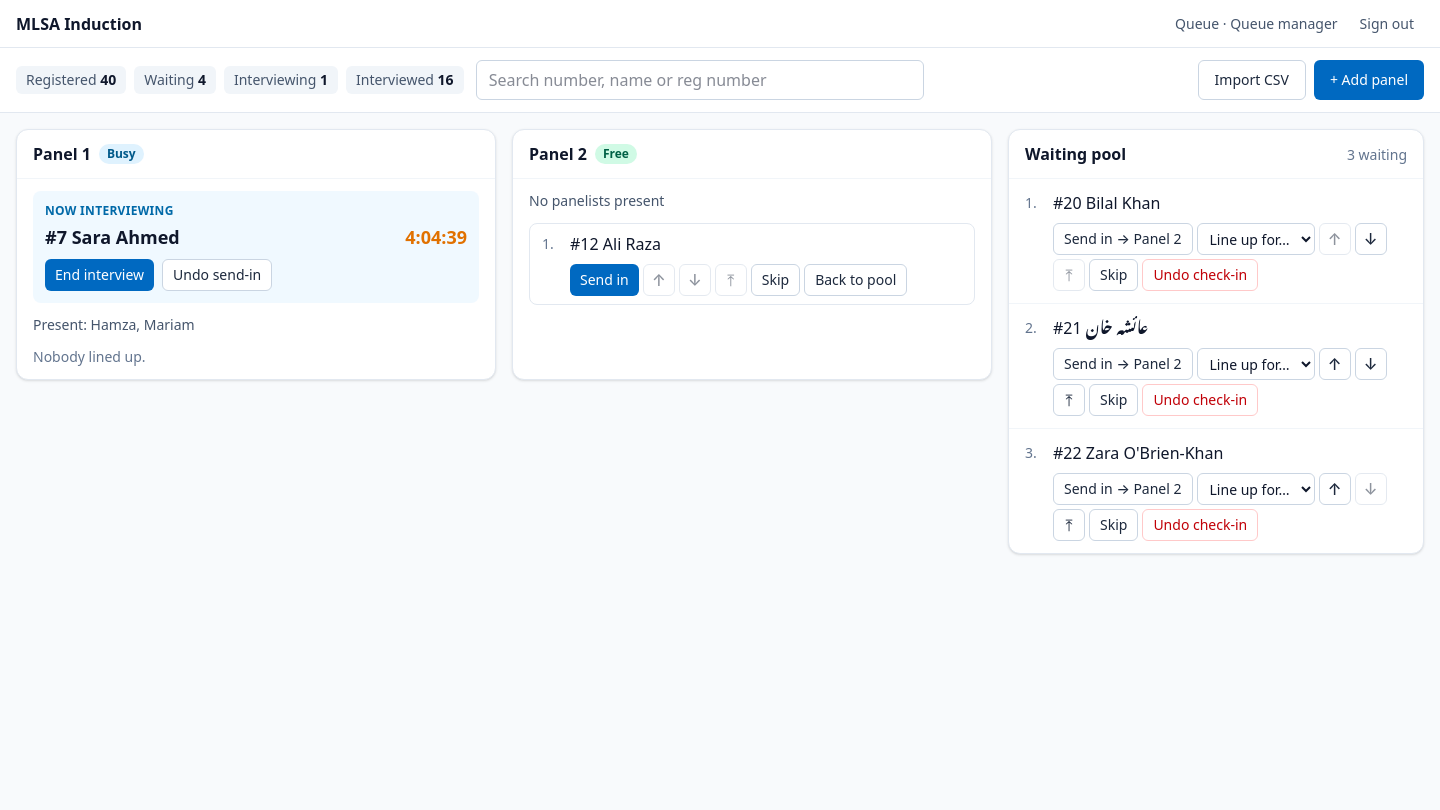
Test: QueuePage › shows the server's message when an action fails
The width and height of the screenshot is (1440, 810).
Expected: the element "Panel 1" is shown, [16,129,496,380]
Click the button named "Send #12 in to Panel 2": [604, 280] box [570,264,639,296]
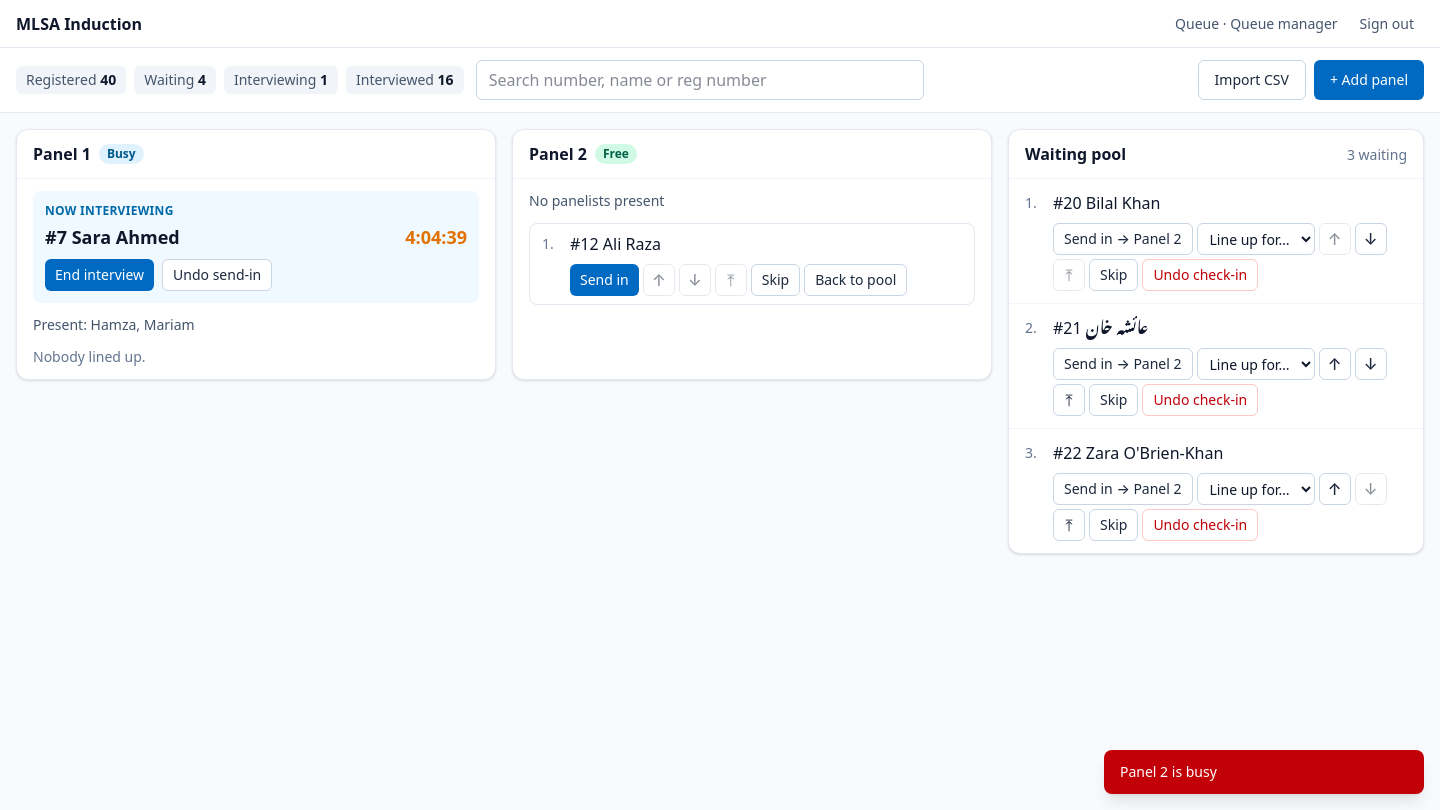
Result: the button "Panel 2 is busy" is shown at [1104,750,1424,794]
